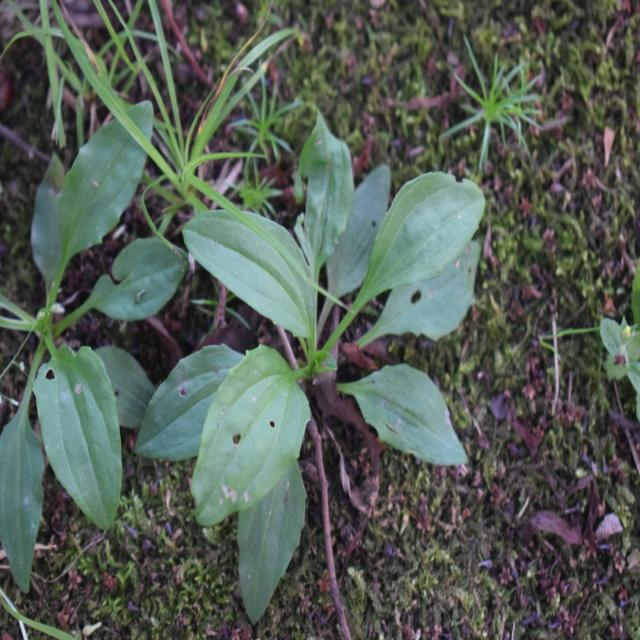plantain: (177, 123, 468, 541), (0, 99, 176, 533)
